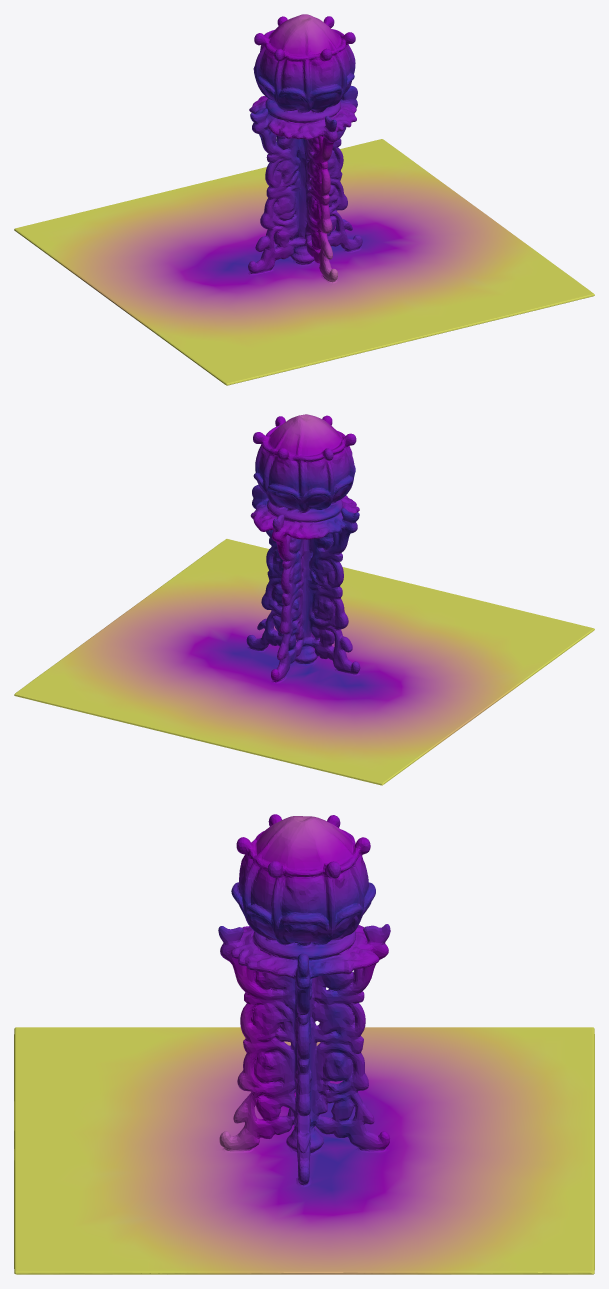
Rendered from iter_19.glb.
3 renders of one model, top to bottom at view 1: azimuth 30°, elevation 25°; view 2: azimuth 150°, elevation 25°; view 3: azimuth 270°, elevation 25°, orthographic. The views are drawn at different scales.
Visible parts, largest first — view 1: textured_mesh; view 2: textured_mesh; view 3: textured_mesh.
Part boxes in pixels (x1,y1,x2,y2): textured_mesh: (14,14,594,385); textured_mesh: (14,414,594,785); textured_mesh: (14,814,594,1274).
Bounding box in the file's own units: 1.99 × 1.27 × 1.99.
